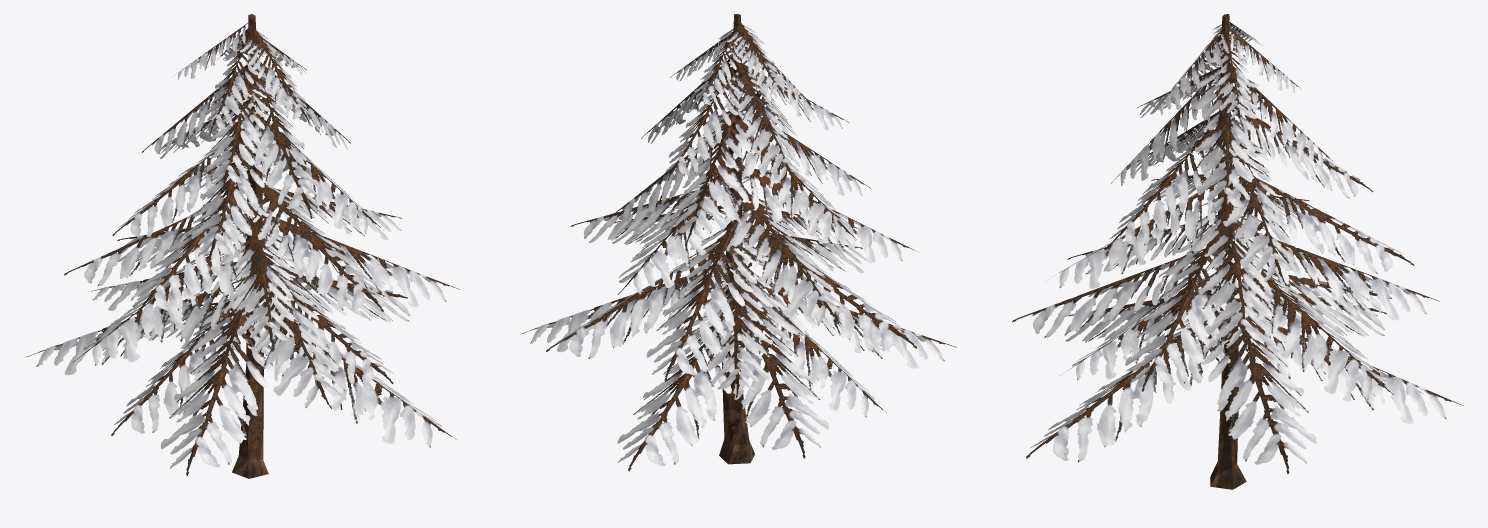
Rendered from tree01.fbx.
The picture shows the model from 3 angles, left to right: view 1: azimuth 30°, elevation 25°; view 2: azimuth 150°, elevation 25°; view 3: azimuth 270°, elevation 25°; orthographic projection. The views are drawn at different scales.
Parts seen in each view (by area): view 1: tree_mesh; view 2: tree_mesh; view 3: tree_mesh.
Boxes of the visible parts, x1,y1,x2,y2 form: tree_mesh: [26, 14, 459, 478]; tree_mesh: [521, 14, 956, 471]; tree_mesh: [1012, 14, 1463, 489].
Size of the model in its own units: 1095 by 1213 by 1130.
